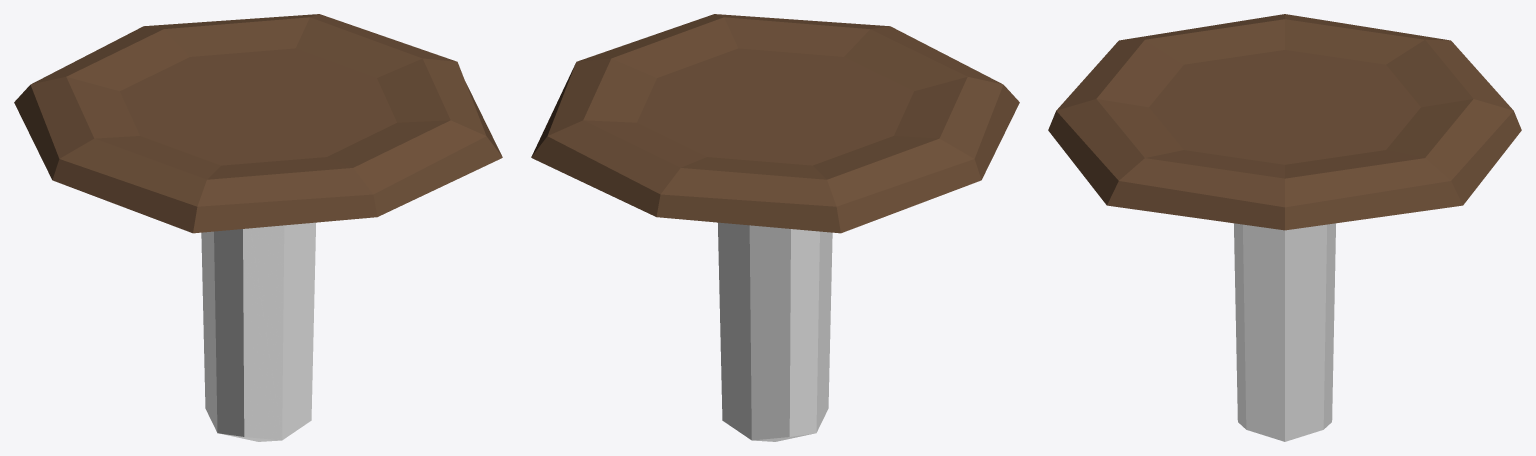
The model's file is Kangasrousku.fbx.
The picture shows the model from 3 angles, left to right: view 1: azimuth 30°, elevation 25°; view 2: azimuth 150°, elevation 25°; view 3: azimuth 270°, elevation 25°; orthographic projection.
Parts seen in each view (by area): view 1: Cap.002, Leg.002; view 2: Cap.002, Leg.002; view 3: Cap.002, Leg.002.
Boxes of the visible parts, <box> form: Cap.002: <box>14,14,502,233</box>; Leg.002: <box>201,222,315,441</box>; Cap.002: <box>531,14,1019,233</box>; Leg.002: <box>718,222,832,441</box>; Cap.002: <box>1048,14,1521,230</box>; Leg.002: <box>1234,223,1335,441</box>.
Bounding box in the file's own units: 22.12 × 17.61 × 22.12.
